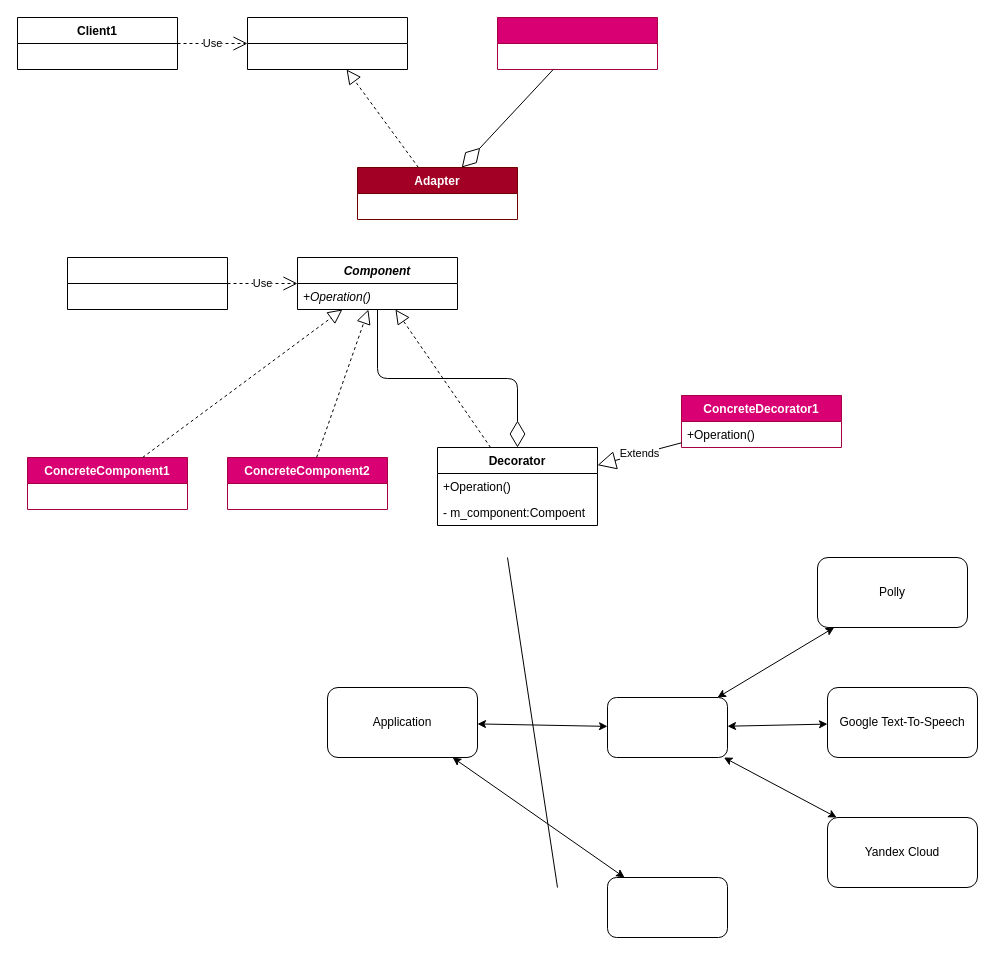
Some shapes in this 995 by 955 pixel diagram are drawn without their labels. Here are the shapes that lost their labels. From the top down, the centre of each, then its label:
At point (327, 43): "Target".
At point (577, 43): "Adaptee".
At point (147, 283): "Client".
At point (667, 727): "TTS Service".
At point (667, 907): "Space".
